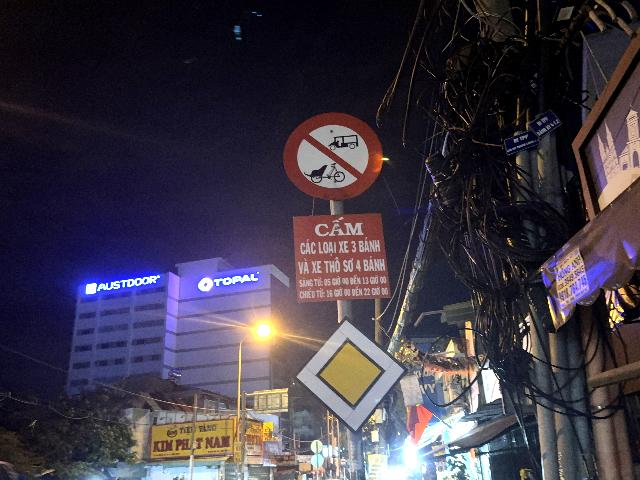bat-dau-duong-uu-tien: (292, 315, 408, 435)
cam-xe-3-banh-xe-tho-so-4-banh: (282, 111, 385, 200)
